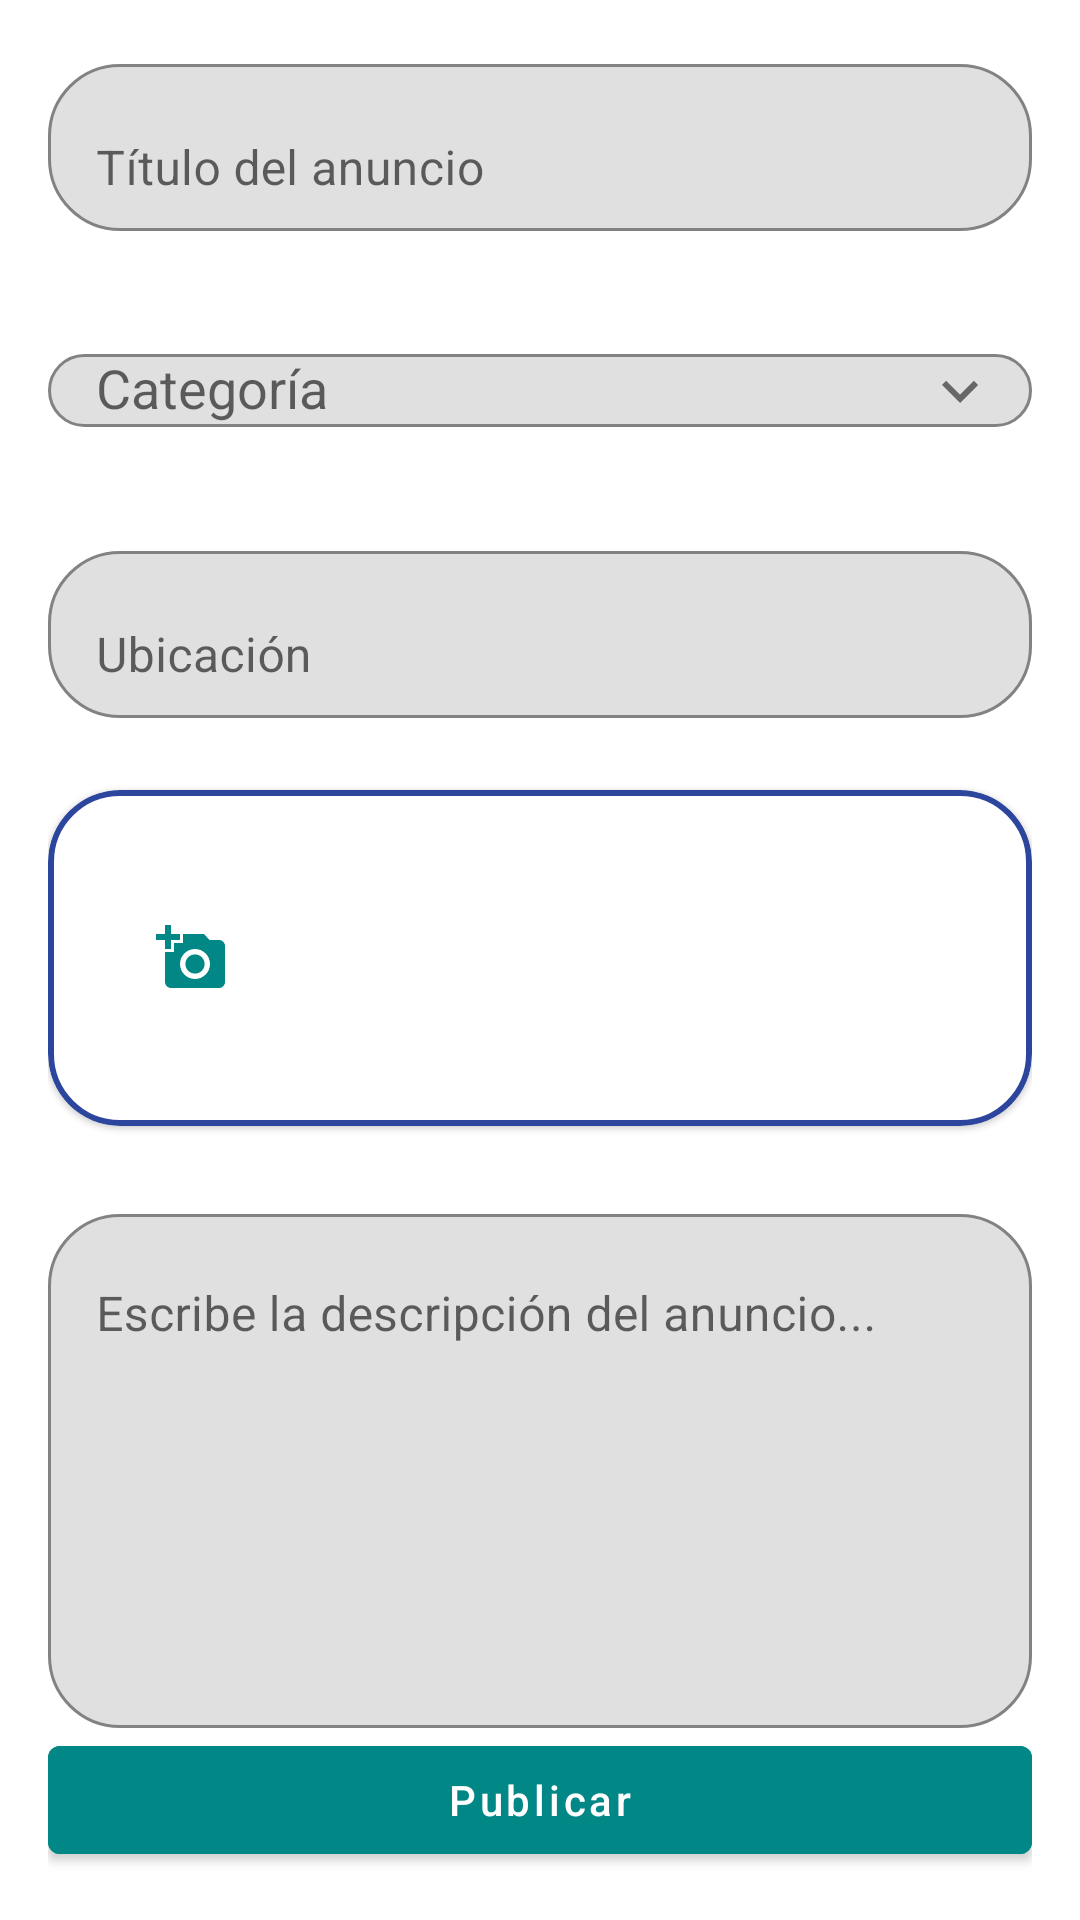

Locate icon controls on the screen. Image size 1080×1920, boxes as (x1, y1, x2, y2).
Agregar imagen: (156, 925, 225, 988)
